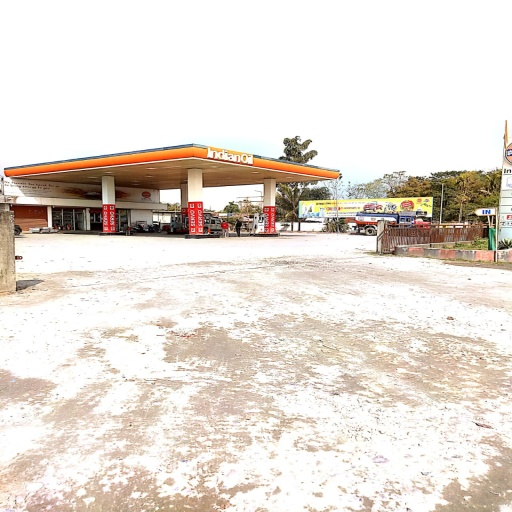roof: (3, 143, 341, 194)
